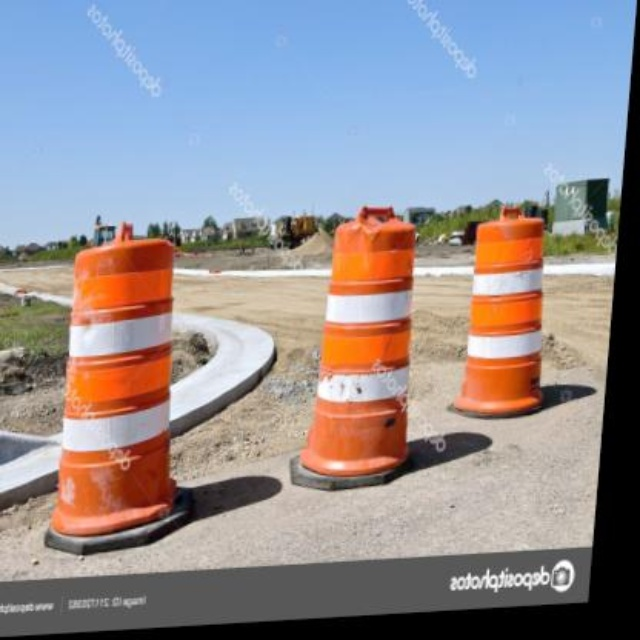obstacle: (47, 219, 194, 545), (298, 205, 430, 497), (461, 214, 563, 427)
